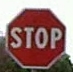stop: (4, 7, 66, 69)
